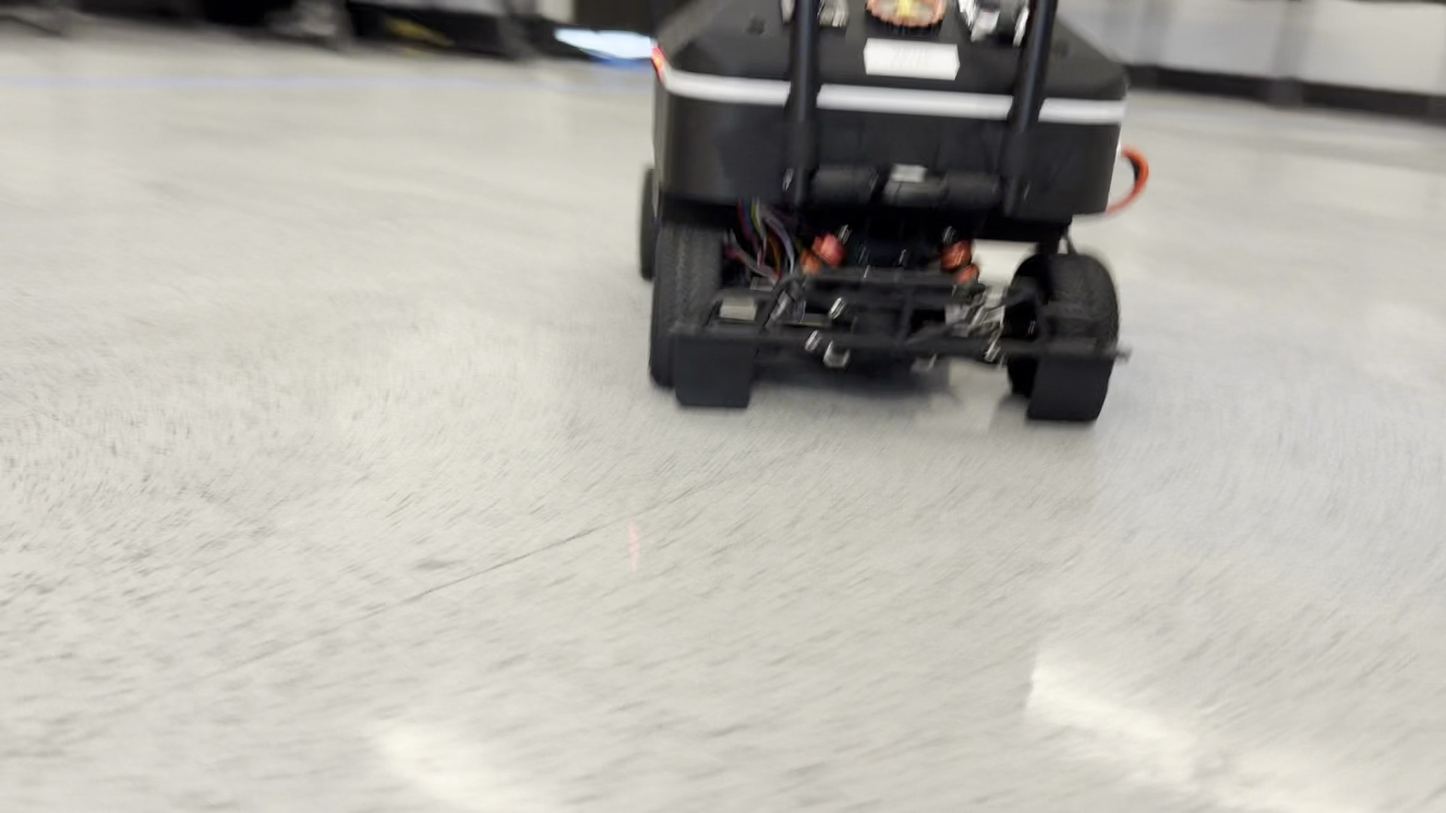racecar: (638, 0, 1145, 422)
